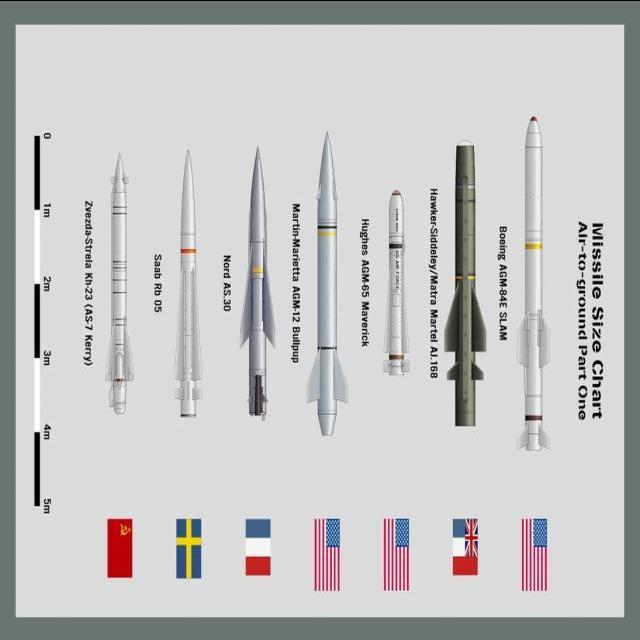Missile: (231, 144, 295, 448), (512, 107, 560, 454), (174, 141, 211, 433)
